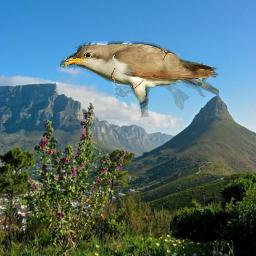Cuckoo: (60, 41, 219, 117)
